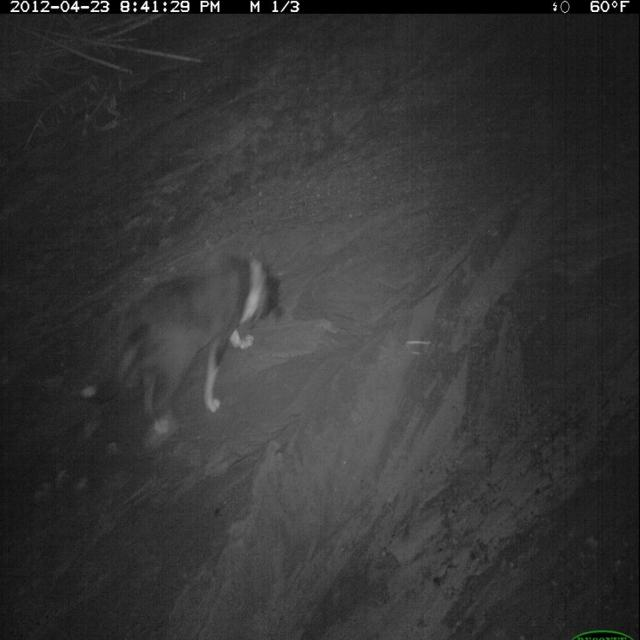dog: (77, 252, 286, 442)
